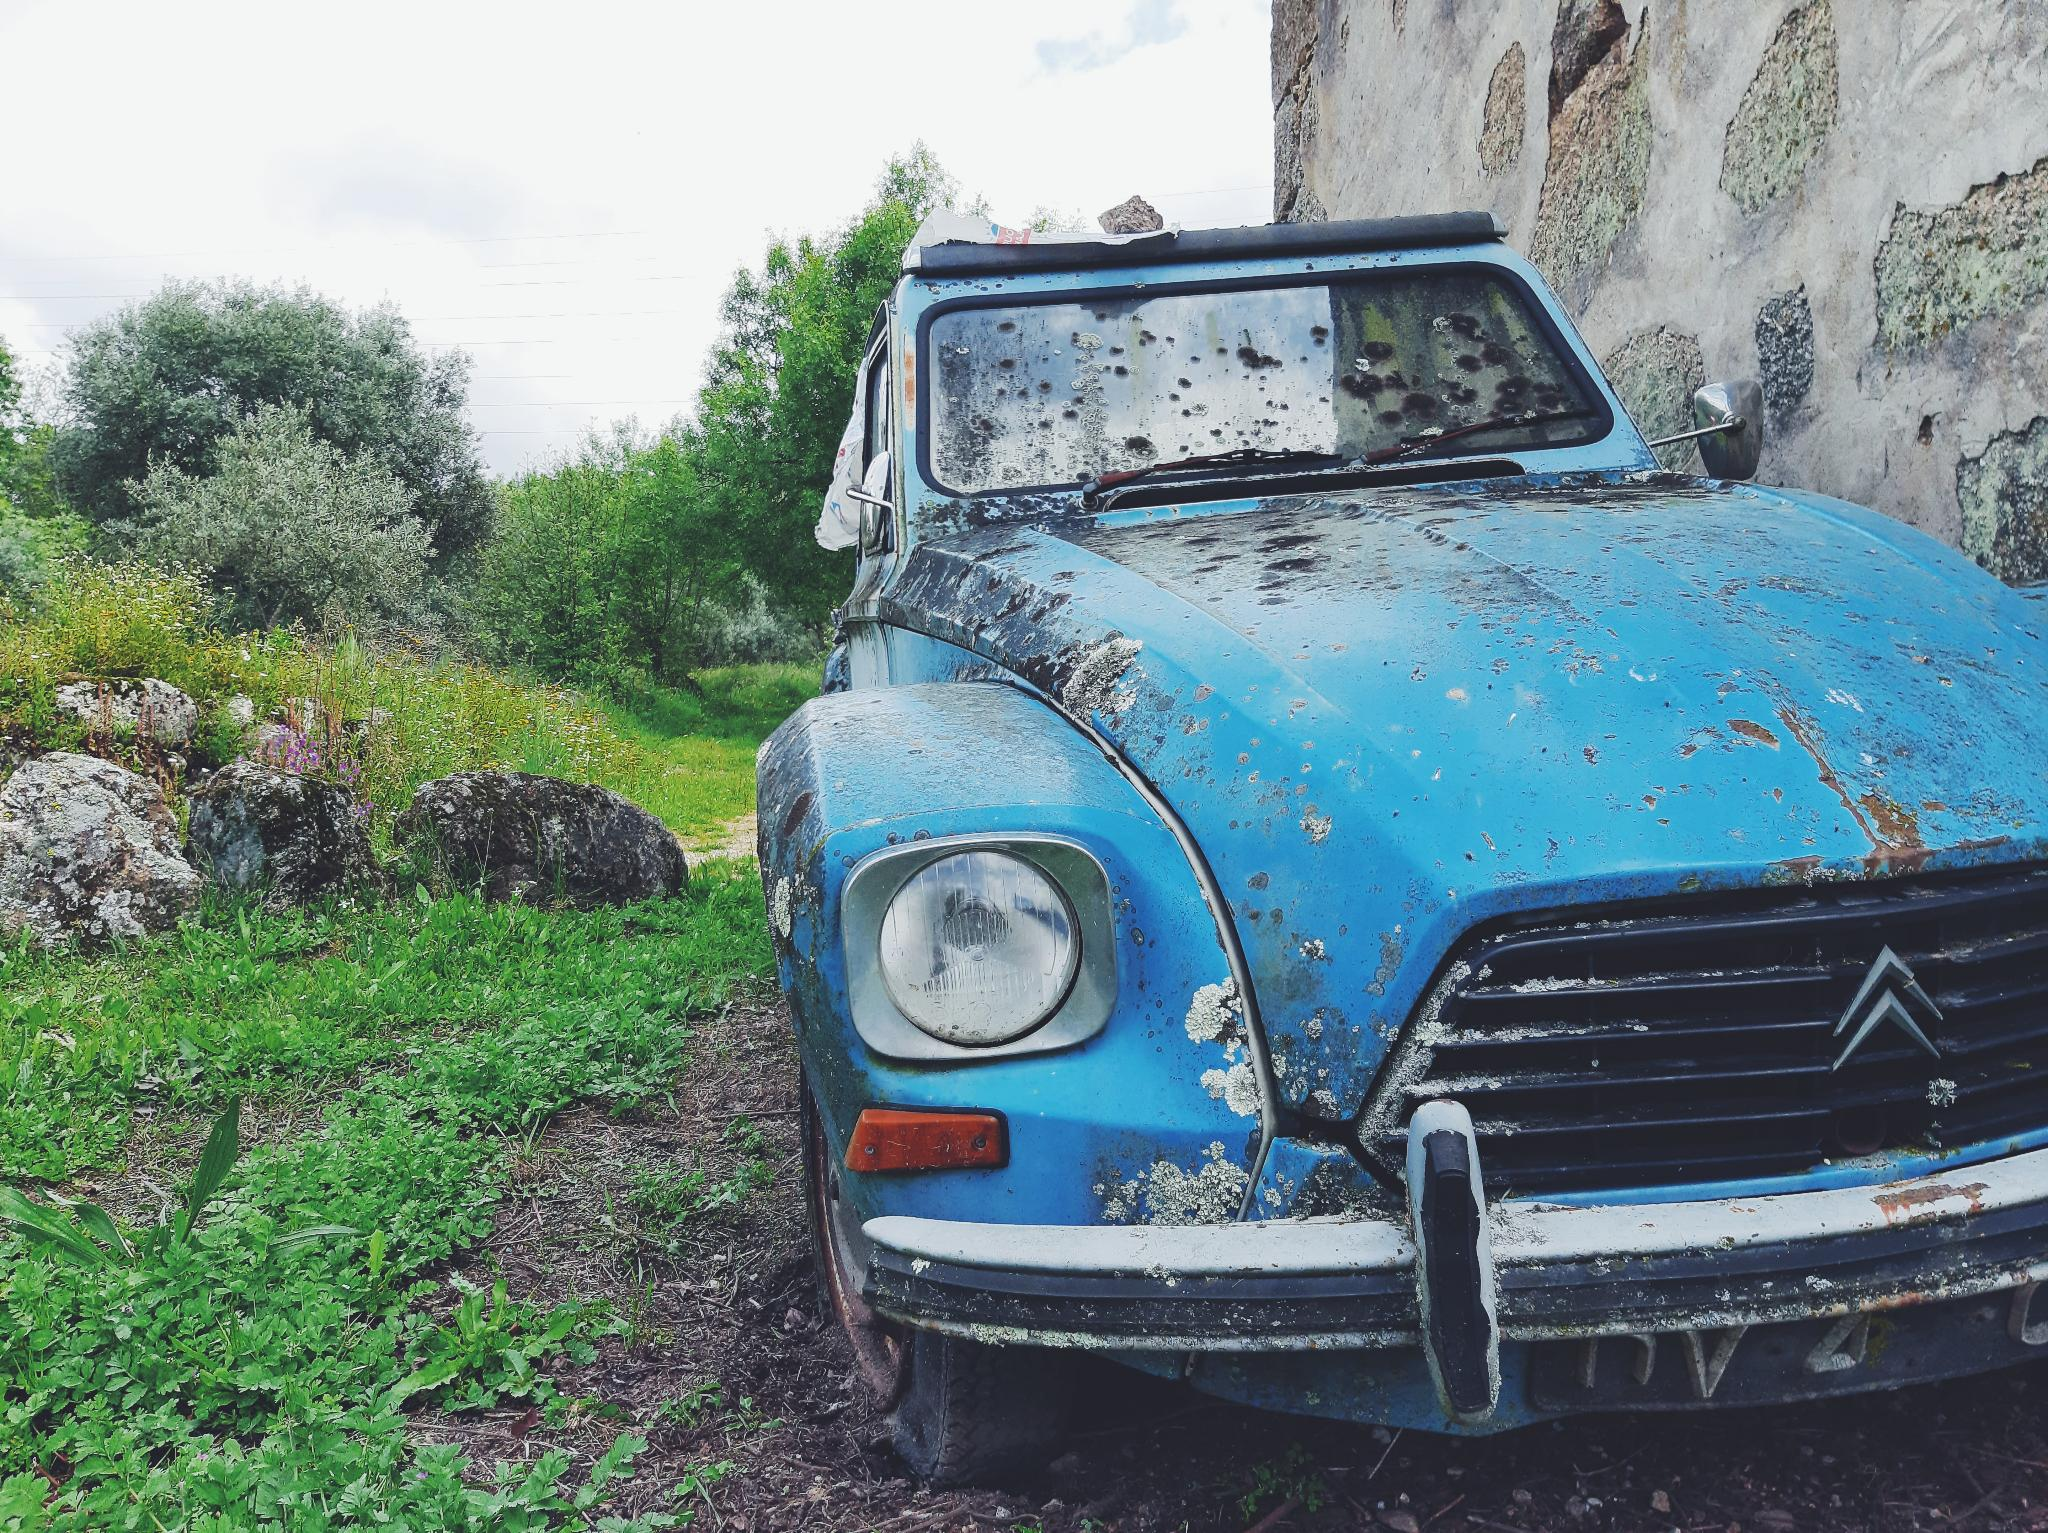Citroen: (1800, 905, 1988, 1109)
